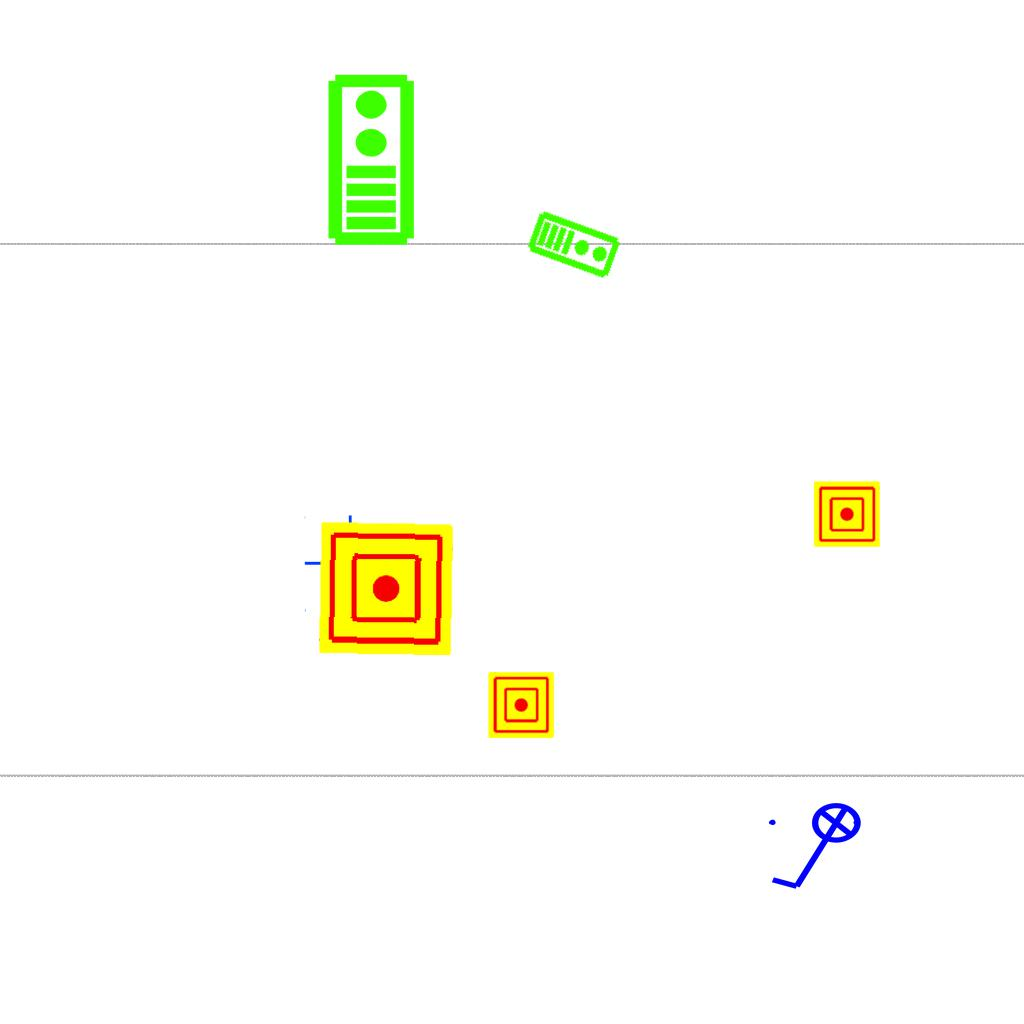Ausschalter_beleuchtet: (763, 801, 875, 897)
Gegensprechanlage_mit_Video: (322, 71, 417, 247), (525, 206, 624, 282)
NAM-Nichtautomatischer_Melder: (318, 521, 454, 657), (488, 672, 554, 738), (814, 481, 880, 547)
Schukosteckdose_einfach: (304, 514, 391, 614)
